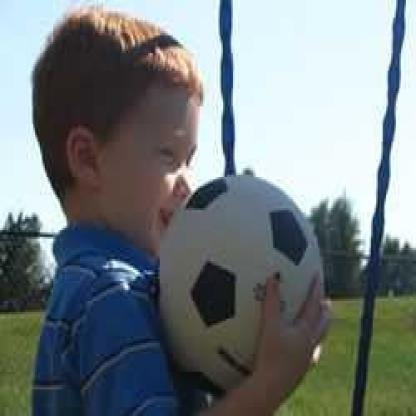ball: (157, 176, 324, 394)
